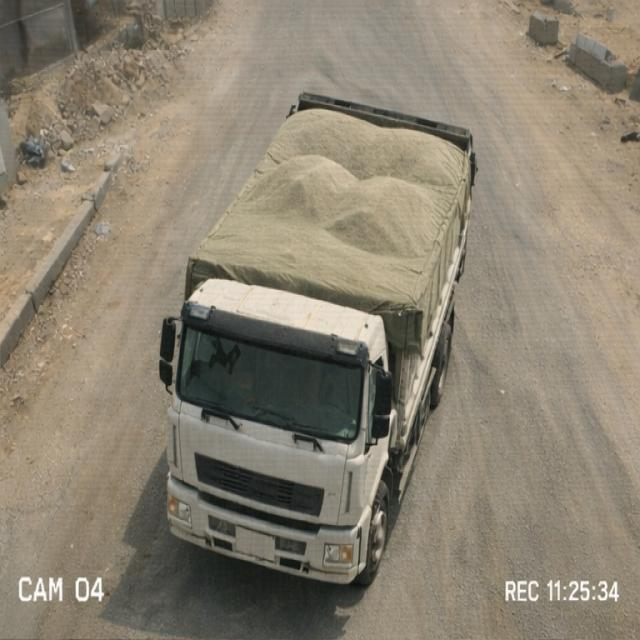Box: (171, 87, 488, 325)
Truck: (149, 79, 513, 554)
